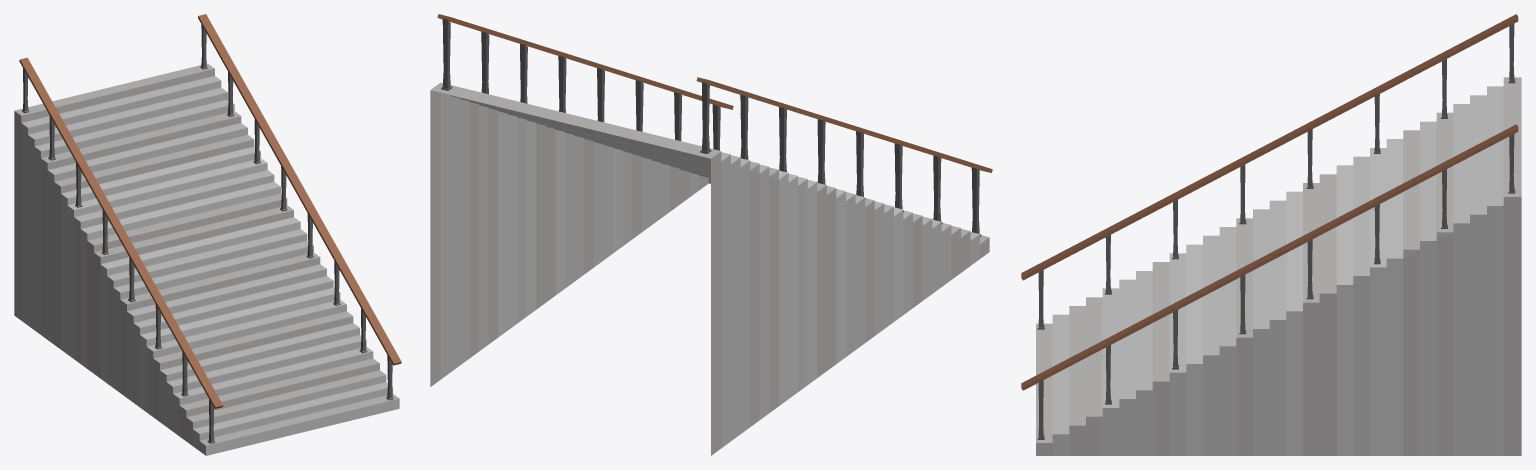
Rendered from M_Stairs_0.fbx.
The picture shows the model from 3 angles, left to right: view 1: azimuth 30°, elevation 25°; view 2: azimuth 150°, elevation 25°; view 3: azimuth 270°, elevation 25°; orthographic projection. The views are drawn at different scales.
Visible parts, largest first — view 1: M_Stairs_0; view 2: M_Stairs_0; view 3: M_Stairs_0.
Part boxes in pixels (x1,y1,x2,y2): M_Stairs_0: (14, 14, 401, 455); M_Stairs_0: (430, 14, 992, 455); M_Stairs_0: (1021, 14, 1521, 455).
Size of the model in its own units: 1600 by 2028 by 2832.
